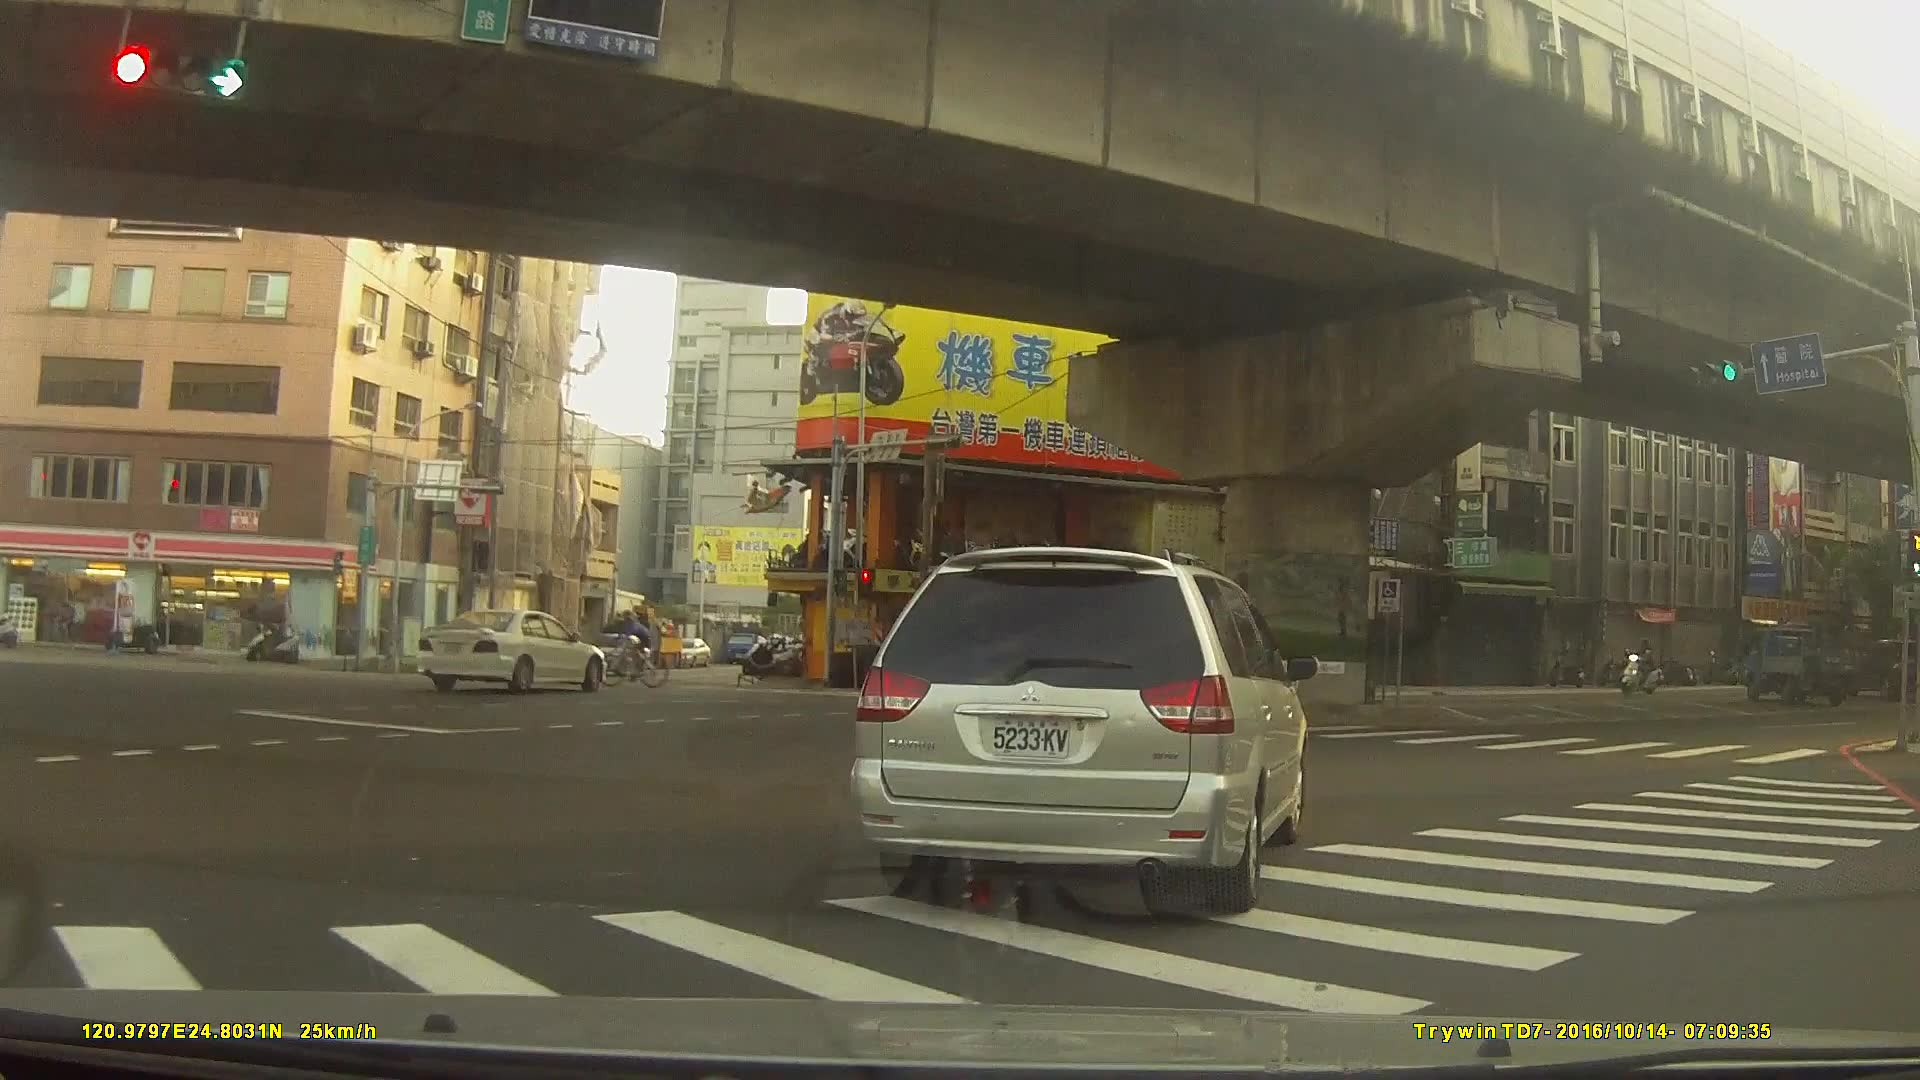rider: (598, 609, 670, 691), (1623, 640, 1664, 694)
vehicle: (851, 544, 1308, 915), (416, 609, 604, 695), (1739, 623, 1862, 705), (783, 636, 857, 678), (673, 636, 713, 667)
